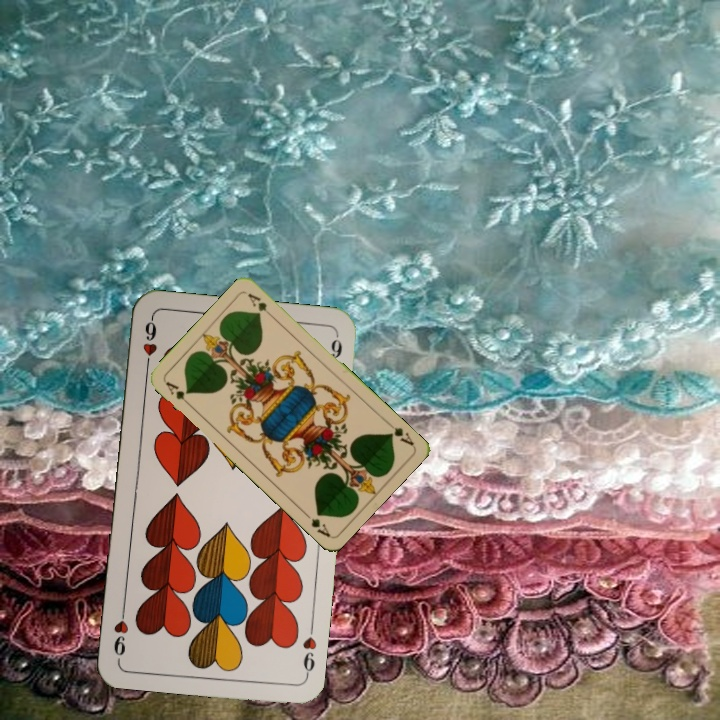GA: (382, 417, 417, 448), (162, 377, 194, 409)
H9: (139, 314, 160, 373), (298, 633, 319, 680)
